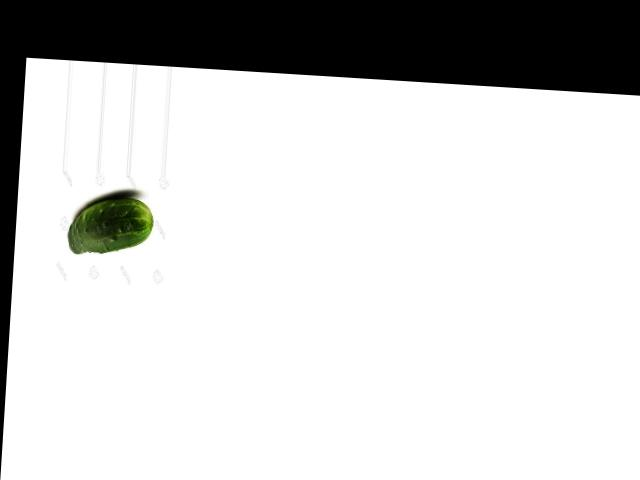cucumber: (66, 193, 155, 258)
